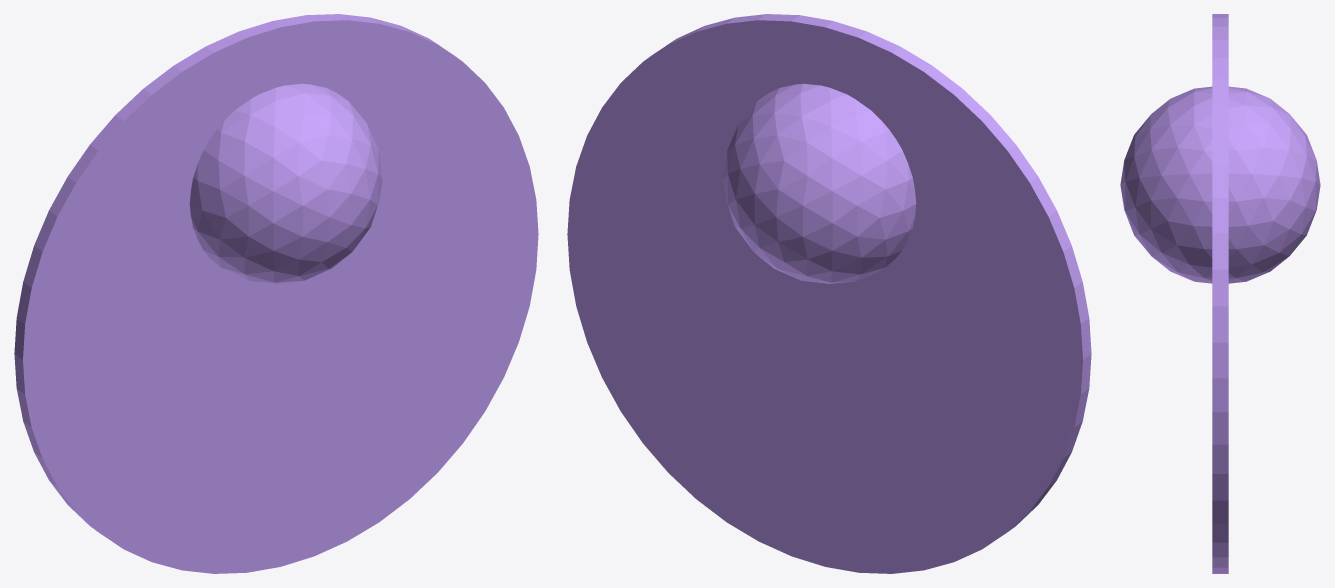
The model's file is placeholder.glb.
3 views of the same model, side by side, from view 1: azimuth 30°, elevation 25°; view 2: azimuth 150°, elevation 25°; view 3: azimuth 270°, elevation 25° (orthographic). The views are drawn at different scales.
Visible parts, largest first — view 1: geometry_0; view 2: geometry_0; view 3: geometry_0.
Part boxes in pixels (box(x1,y1,x2,y2)): geometry_0: box(14, 14, 538, 573); geometry_0: box(567, 14, 1091, 573); geometry_0: box(1120, 14, 1320, 573).
Bounding box in the file's own units: 1.4 × 1.4 × 0.5.
